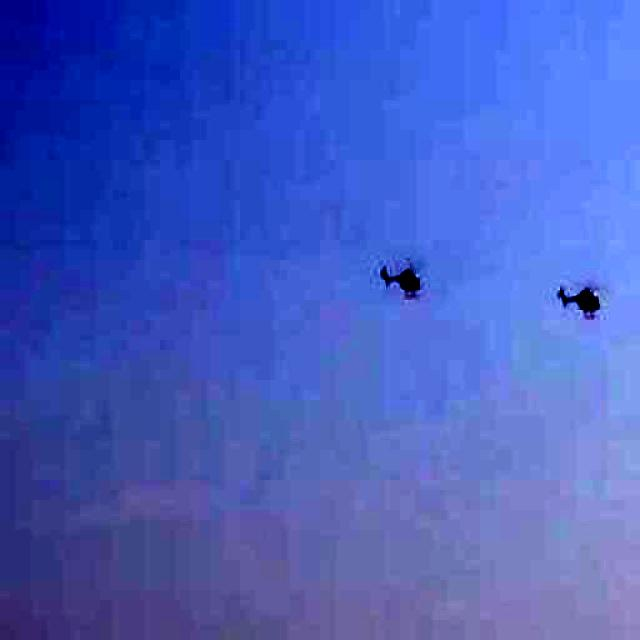drone: (549, 265, 612, 328), (376, 255, 430, 309)
